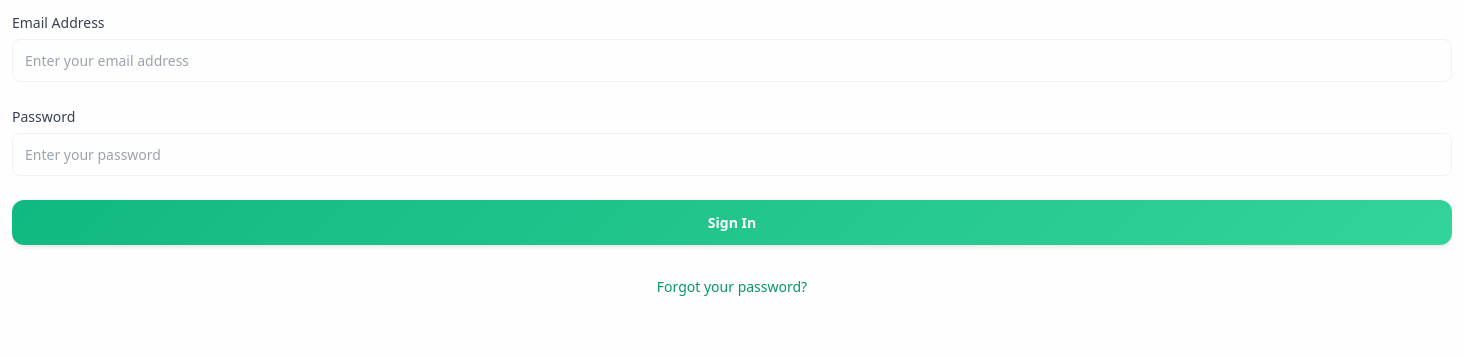
Authentication Forms › SignInForm › Form Validation › validates email format
The image size is (1464, 357).
Type "invalid-email" into the field labelled "Email Address".
click(732, 60); type("invalid-email")  # box [12,39,1452,82]
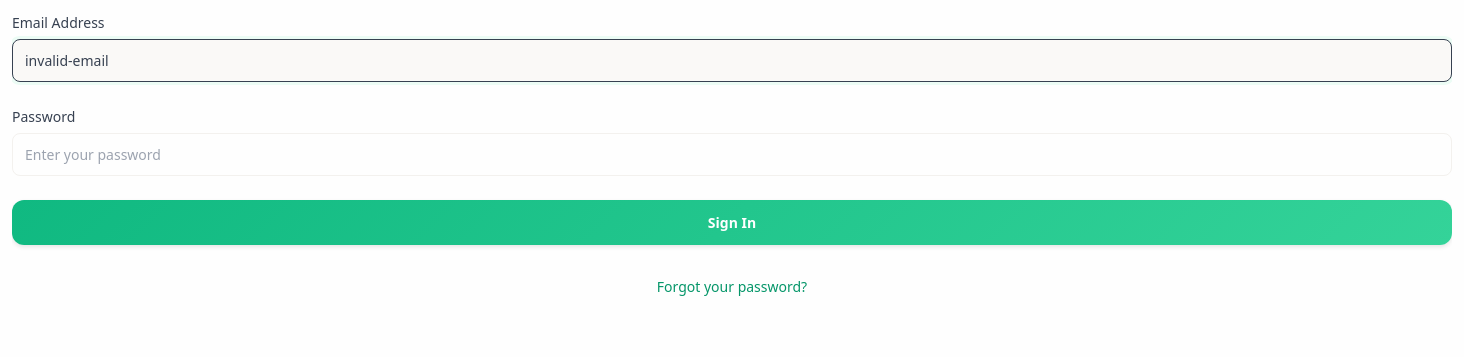
Click the button "Sign In".
click(732, 222)  # box [12,200,1452,245]
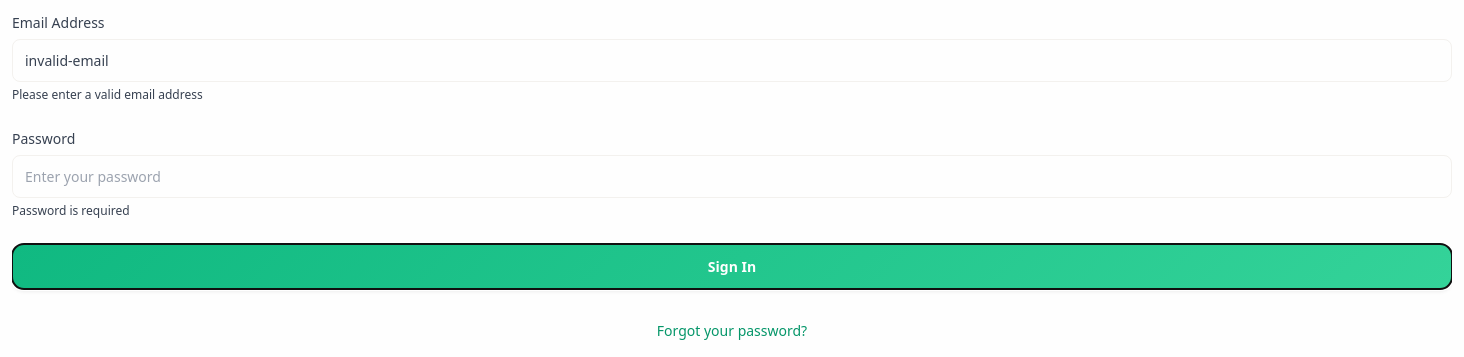
Result: the text "Please enter a valid email address" is shown at [12,86,203,103]
